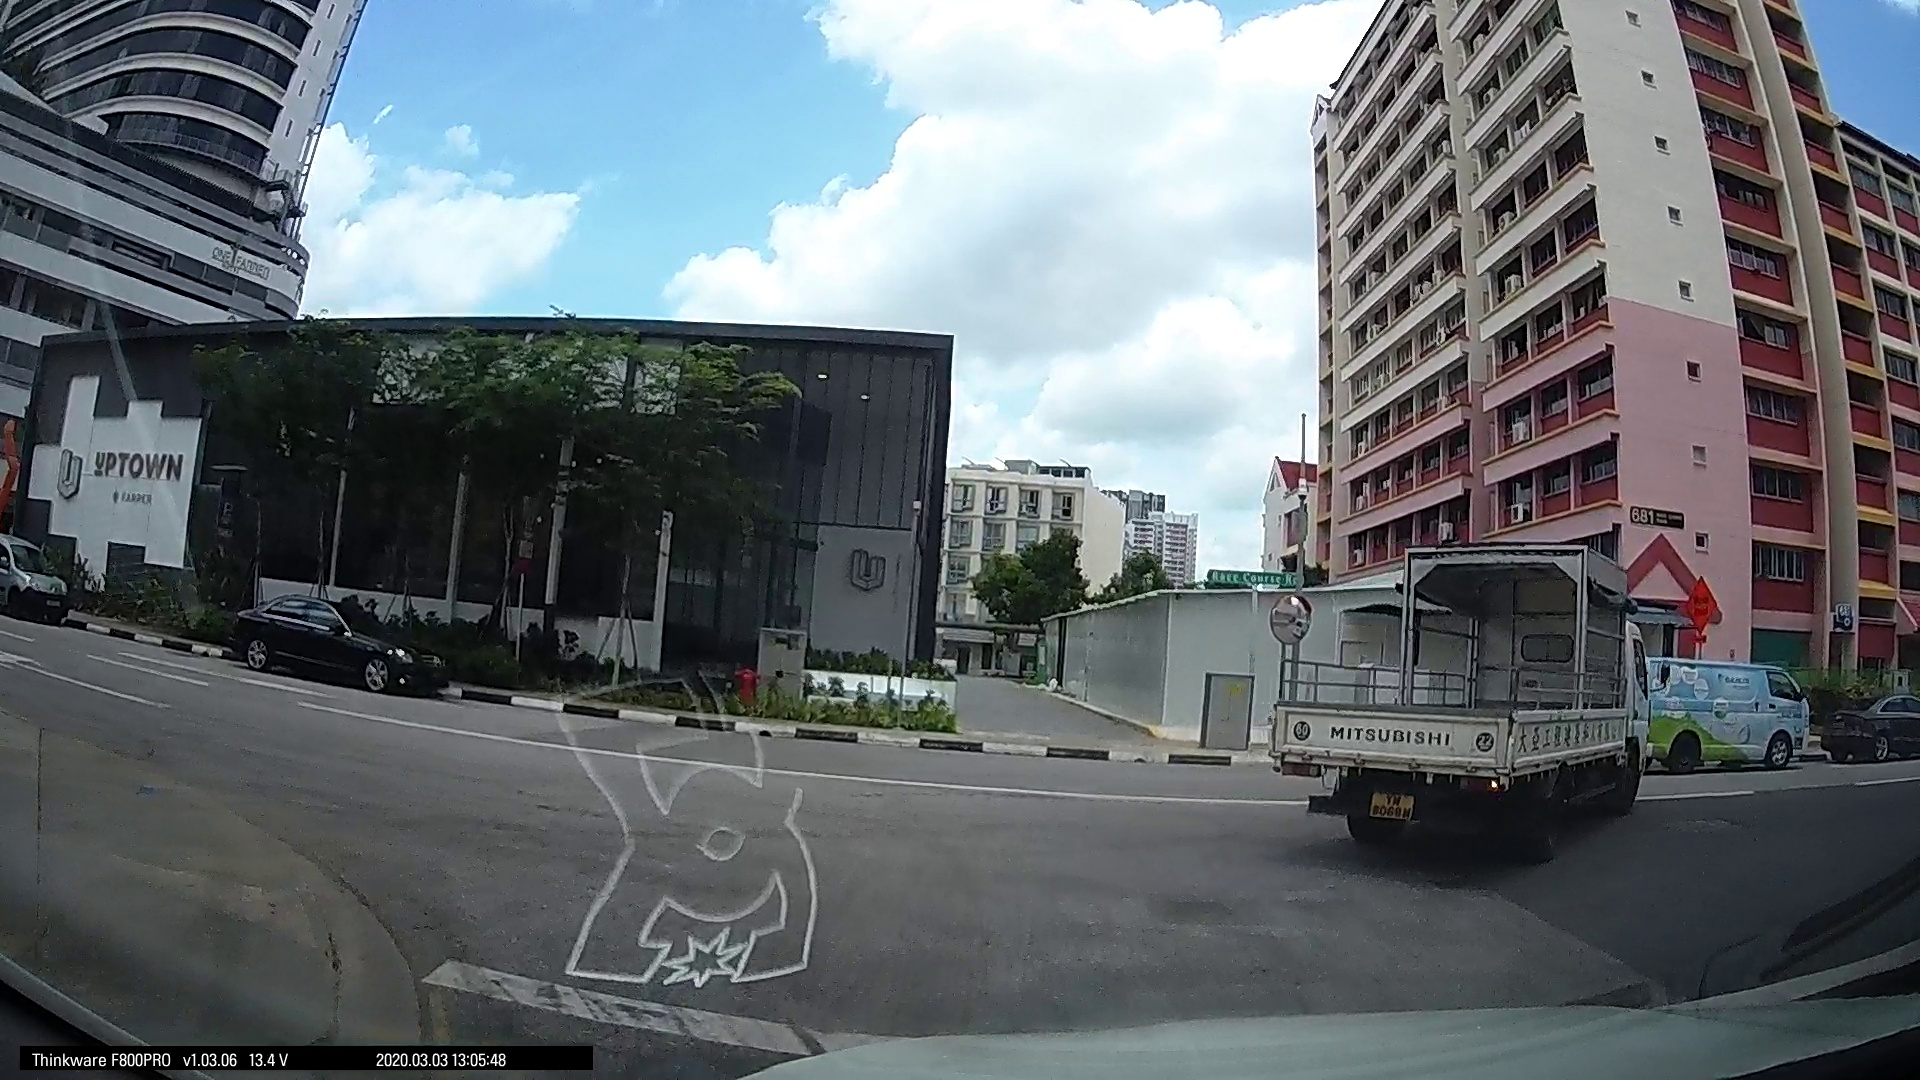Heavy Vehicle: (1273, 542, 1647, 849)
Light Vehicle: (1636, 654, 1812, 771), (227, 589, 419, 688), (1820, 684, 1919, 765), (1, 541, 75, 625)
